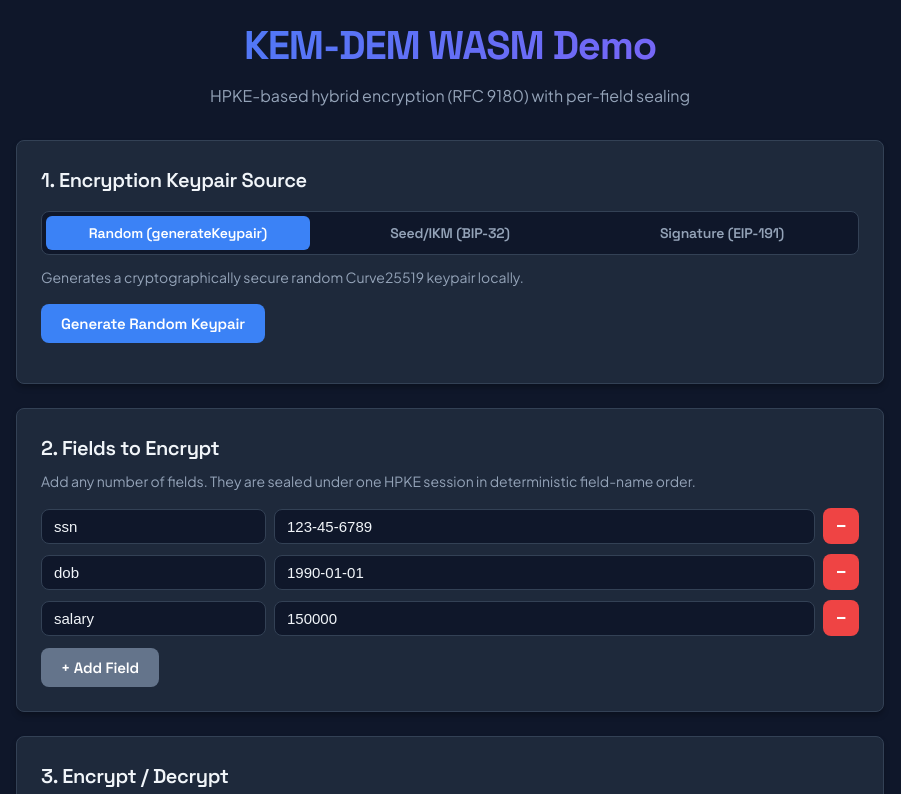
Test: React KEM-DEM Demo Application › supports adding and removing payload fields
Expected: the heading "KEM-DEM WASM Demo" is shown, 16,16 -> 884,76
Click the button "+ Add Field". click: (100, 668)
box: 41,648 -> 159,687
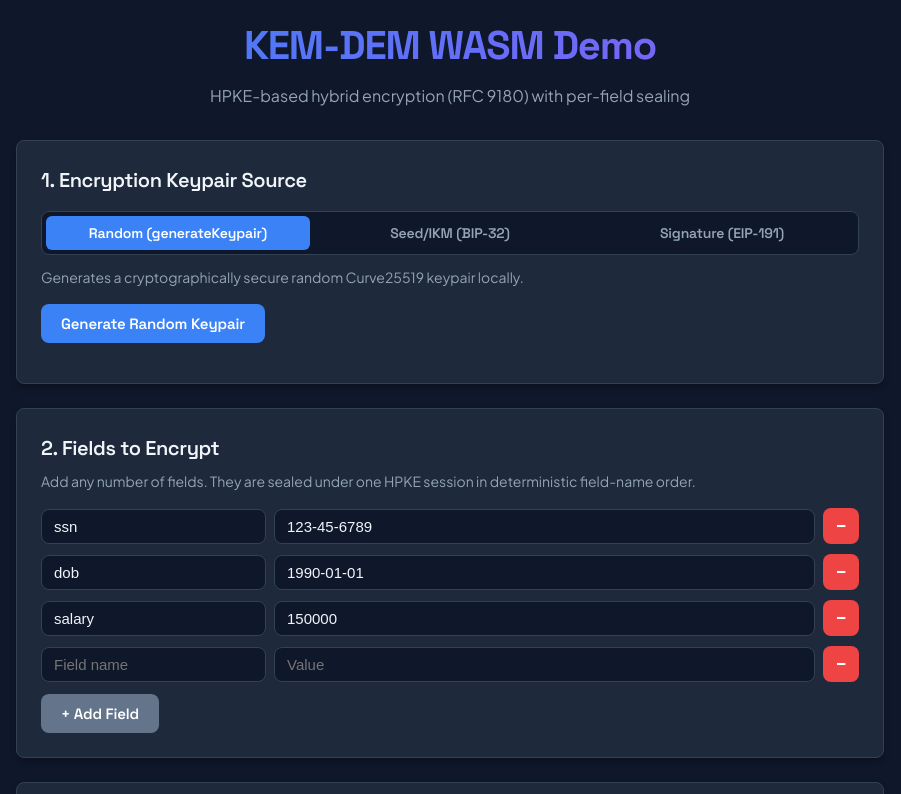
Expected: the number of fields with placeholder "Field name" is 4, 41,508 -> 266,544; 41,554 -> 266,590; 41,600 -> 266,636; 41,646 -> 266,682
Note: Remove the last field
Click the 4th button titled "Remove field". click: (841, 664)
box: 823,646 -> 859,682
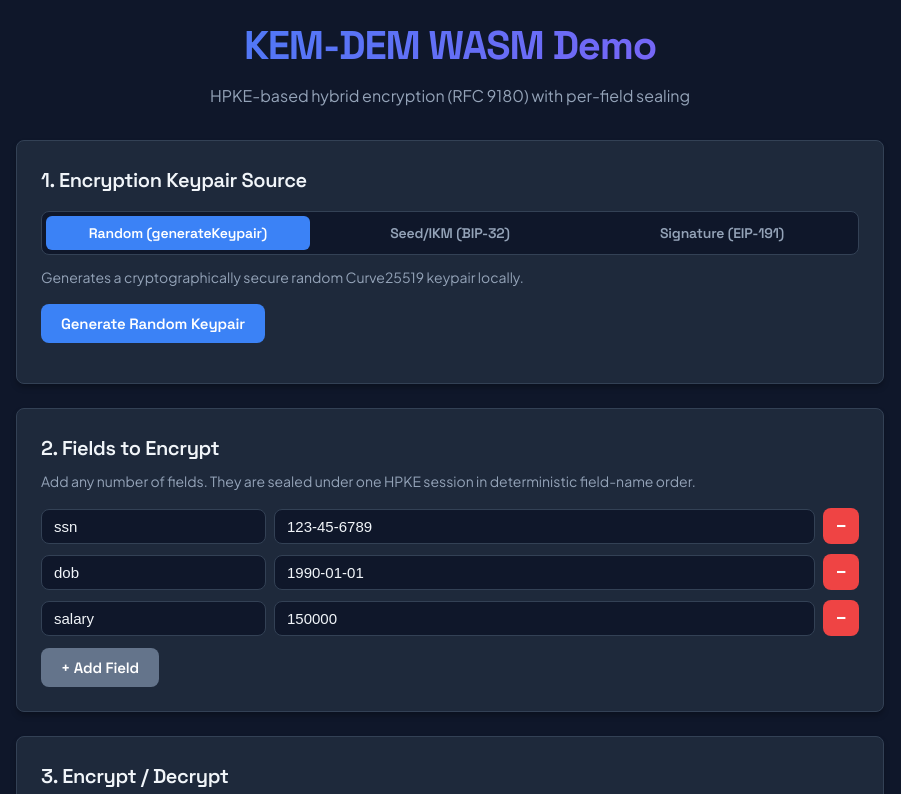
Expected: the number of fields with placeholder "Field name" is 3, 41,508 -> 266,544; 41,554 -> 266,590; 41,600 -> 266,636
